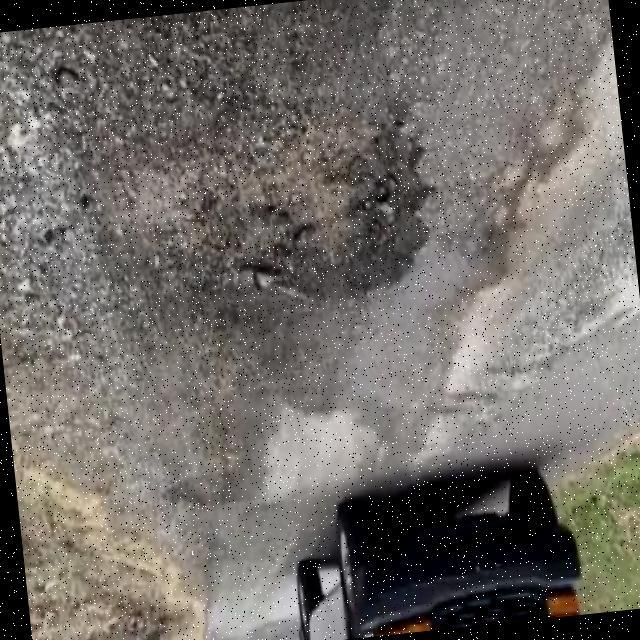Pothole: (221, 98, 430, 303)
